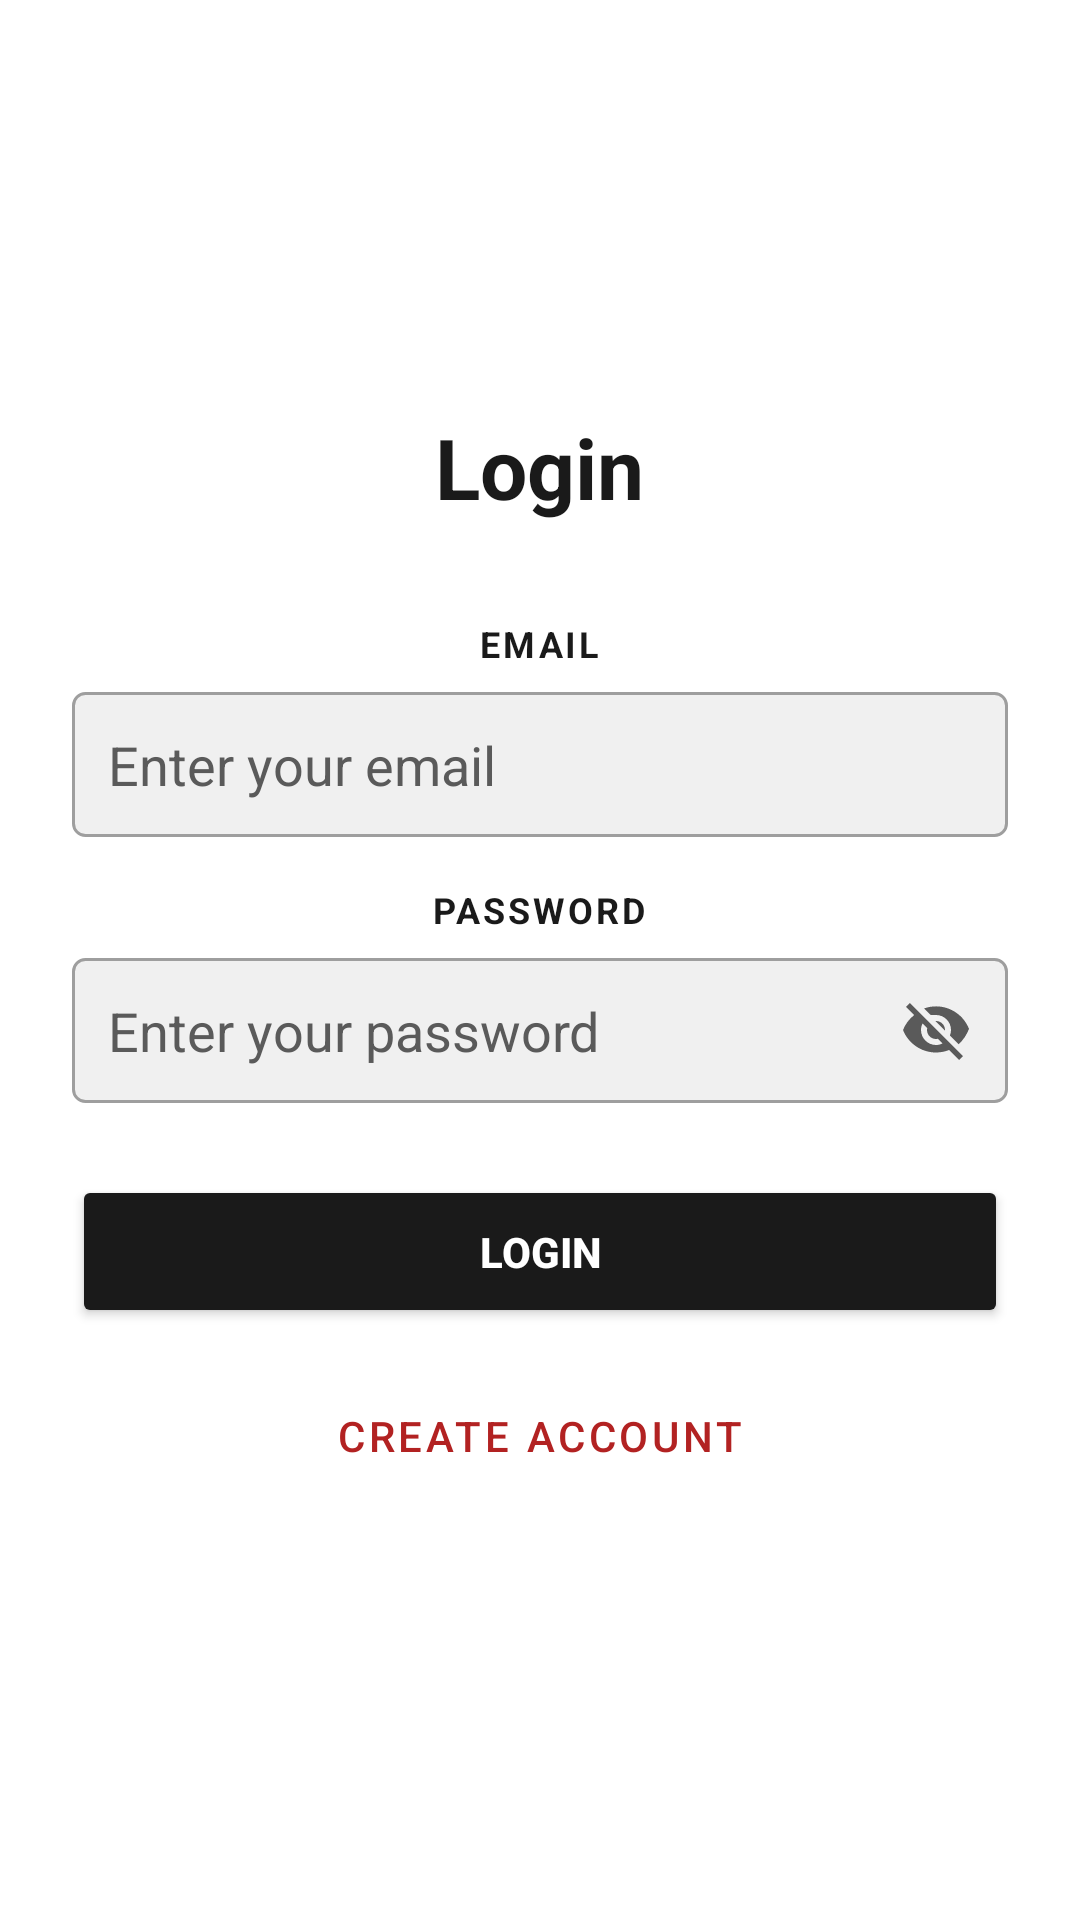

Where to tap for icons on this 1080 × 1920 app screen, as (x,y):
Toggle Password Visibility: (936,1031)
